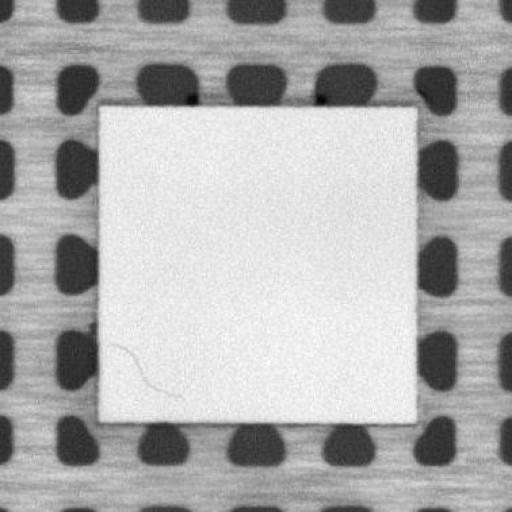DIE_CRACK: (111, 339, 182, 403)
